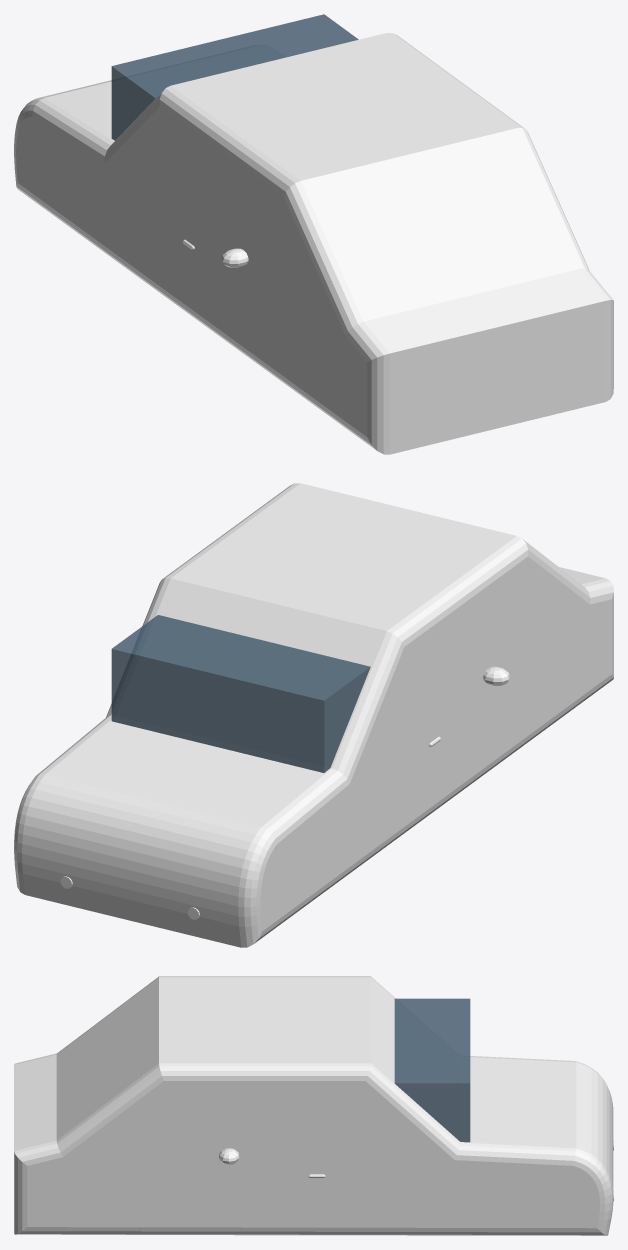
The model's file is veh_police.glb.
3 renders of one model, top to bottom at view 1: azimuth 30°, elevation 25°; view 2: azimuth 150°, elevation 25°; view 3: azimuth 270°, elevation 25°, orthographic. The views are drawn at different scales.
Visible parts, largest first — view 1: veh_police; view 2: veh_police; view 3: veh_police.
Boxes of the visible parts, bbox=[...] form: veh_police: bbox=[14, 14, 613, 454]; veh_police: bbox=[14, 483, 613, 947]; veh_police: bbox=[14, 976, 613, 1235].
Bounding box in the file's own units: 2.22 × 1.56 × 4.95.
